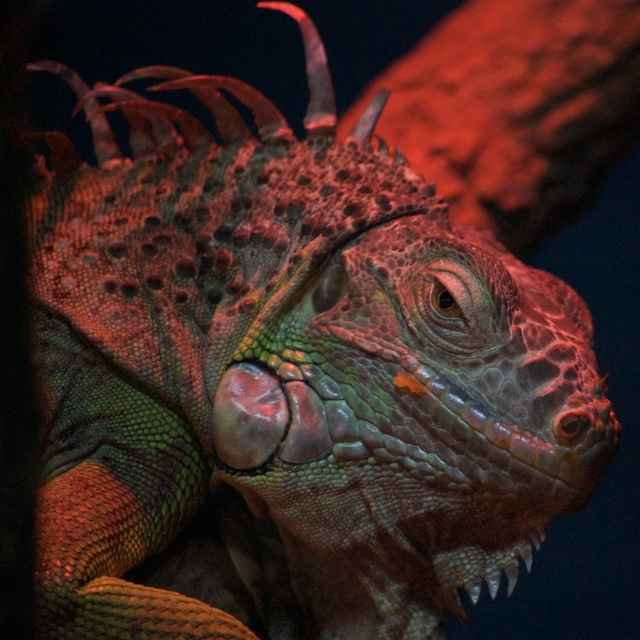Lizard: (0, 0, 623, 640)
